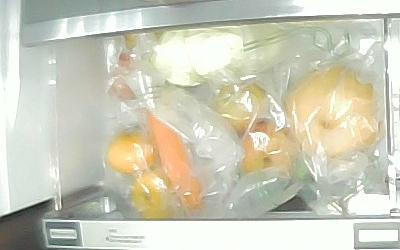cabbage_vinyl: (155, 23, 283, 89)
carrot_vinyl: (149, 102, 206, 211)
pear_vinyl: (285, 61, 383, 164)
prune_vinyl: (214, 83, 276, 135), (237, 126, 292, 180)
tangerine_vinyl: (106, 128, 157, 174), (129, 172, 178, 218)
